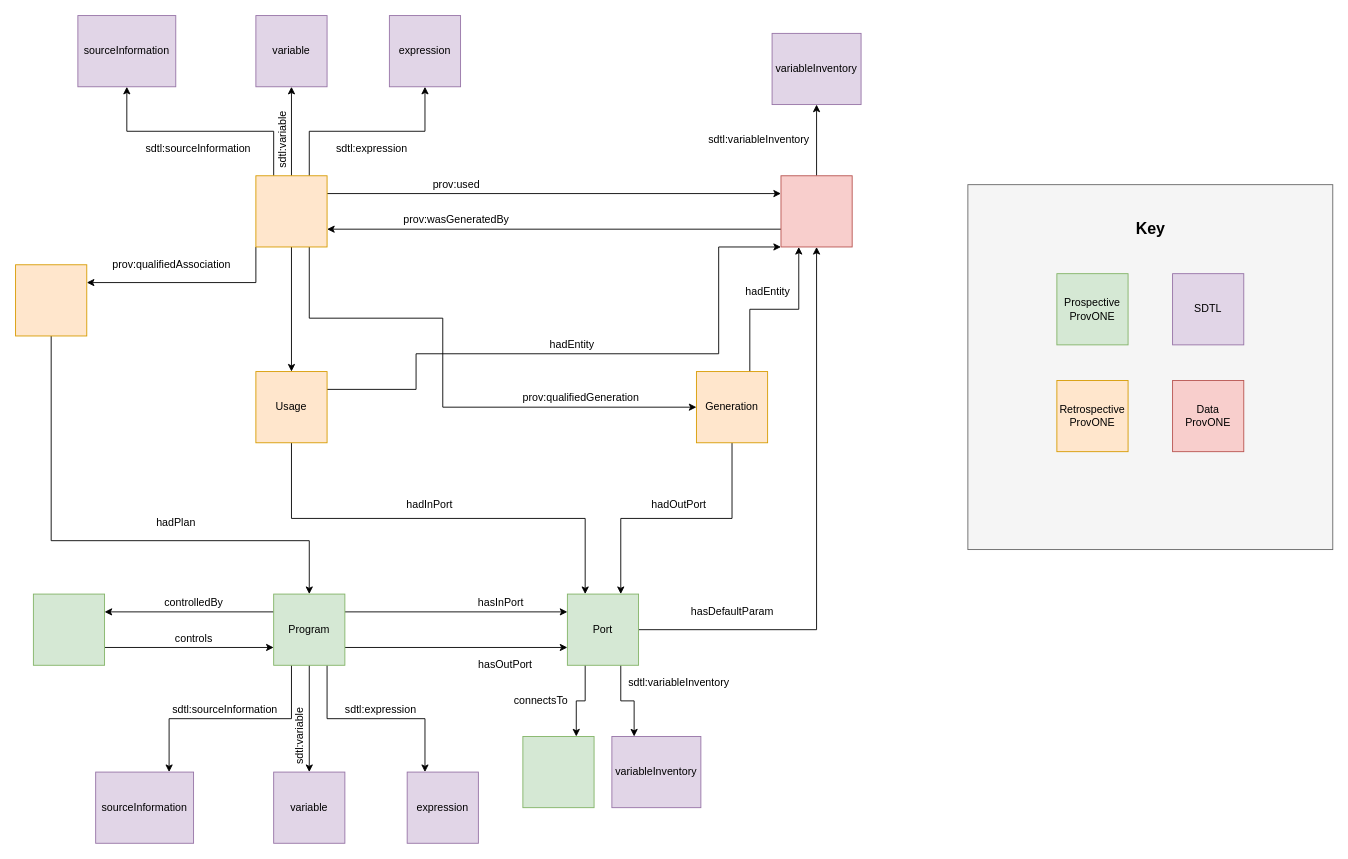
The diagram is 1348 pixels wide and 859 high, and some of its shapes have lost their labels. Here are the shapes that lost their labels. From the top down, the centre of each, then its label:
the point at 291,211: Execution
the point at 816,211: Entity
the point at 51,300: Association
the point at 68,629: Controller
the point at 558,772: Channel
